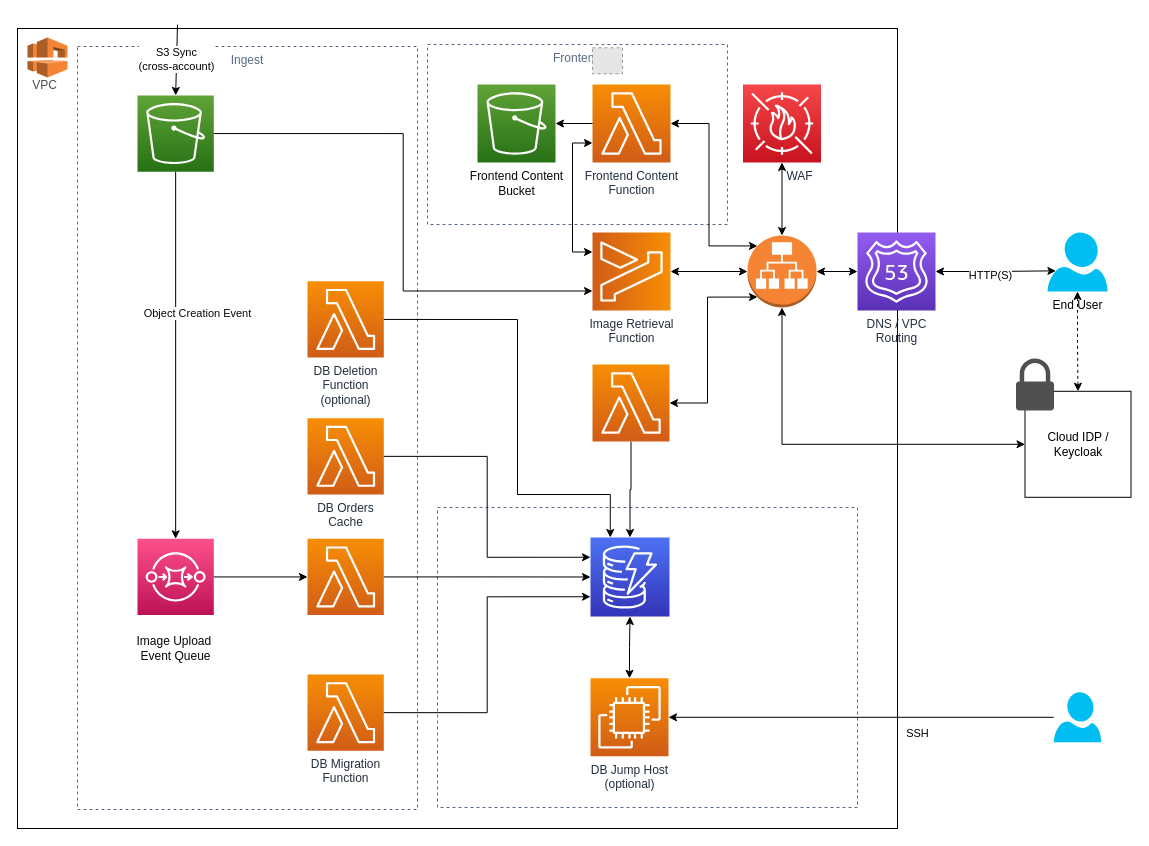
Some shapes in this 1149 by 846 pixel diagram are drawn without their labels. Grey dashed boxes stand in for pictures. Here are the shapes that lost their labels. From the top down, the box of each, then its label:
(136, 94, 214, 172): S3 Source Bucket
(746, 234, 816, 308): Application Load Balancer
(592, 364, 670, 442): Data Retrival Function
(306, 538, 384, 615): Data Ingest Function
(590, 536, 670, 616): RDS Database & Proxy
(436, 506, 858, 808): Storage
(1053, 692, 1101, 742): DevOps Engineer
